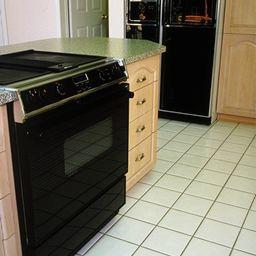Electrodomestico: (11, 77, 126, 243), (125, 1, 213, 126)
